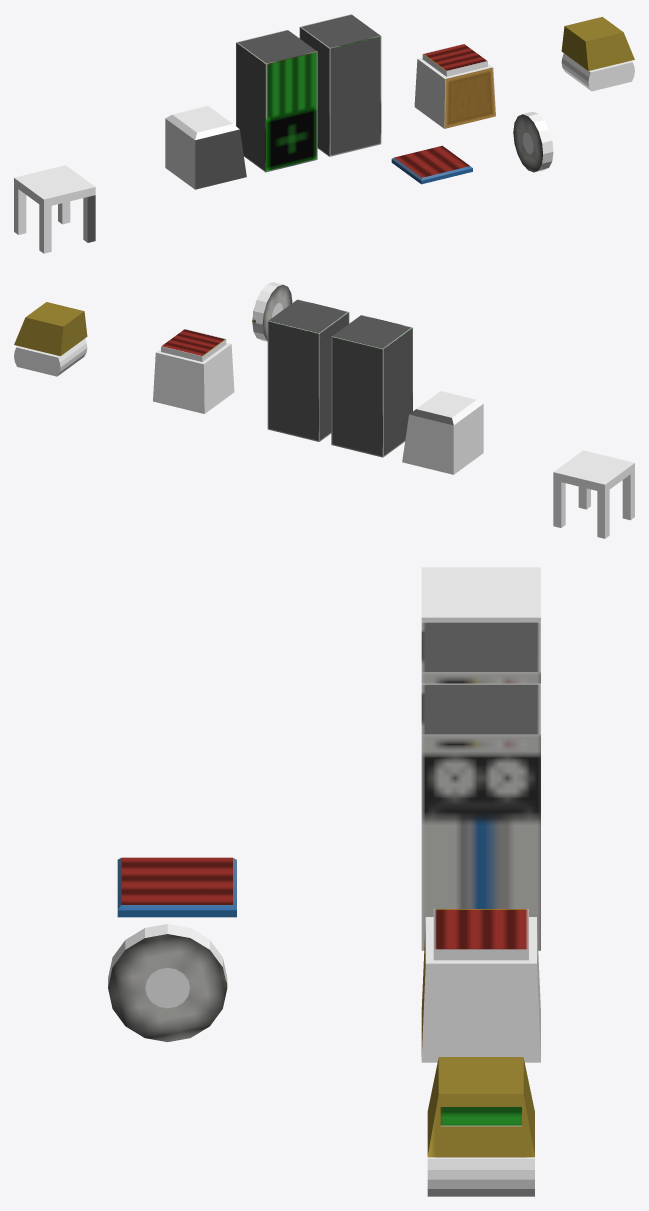
The picture shows the model from 3 angles, top to bottom: view 1: azimuth 30°, elevation 25°; view 2: azimuth 150°, elevation 25°; view 3: azimuth 270°, elevation 25°; orthographic projection. The views are drawn at different scales.
Parts seen in each view (by area): view 1: computer_active, computer, teleport, monitor, table, player, tape, teleport_pad; view 2: computer_active, computer, teleport, monitor, table, player, tape; view 3: computer, teleport, player, tape, computer_active, teleport_pad, table.
Part boxes in pixels (x1=…): computer_active: x1=236, y1=30, x2=317, y2=172; computer: x1=299, y1=14, x2=381, y2=156; teleport: x1=414, y1=44, x2=495, y2=128; monitor: x1=165, y1=106, x2=246, y2=189; table: x1=14, y1=165, x2=95, y2=253; player: x1=561, y1=17, x2=634, y2=91; tape: x1=513, y1=111, x2=553, y2=172; teleport_pad: x1=391, y1=145, x2=472, y2=184; computer_active: x1=331, y1=315, x2=412, y2=457; computer: x1=267, y1=299, x2=349, y2=441; teleport: x1=153, y1=329, x2=234, y2=413; monitor: x1=402, y1=391, x2=483, y2=474; table: x1=553, y1=450, x2=634, y2=538; player: x1=14, y1=302, x2=87, y2=376; tape: x1=252, y1=282, x2=292, y2=341; computer: x1=421, y1=683, x2=540, y2=950; teleport: x1=421, y1=909, x2=540, y2=1062; player: x1=427, y1=1057, x2=534, y2=1196; tape: x1=108, y1=924, x2=227, y2=1042; computer_active: x1=421, y1=621, x2=540, y2=683; teleport_pad: x1=117, y1=857, x2=236, y2=917; table: x1=421, y1=567, x2=540, y2=621.
Bounding box in the file's own units: 11.46 × 2.5 × 3.63.
Materials: 2 (2 with a texture image).
